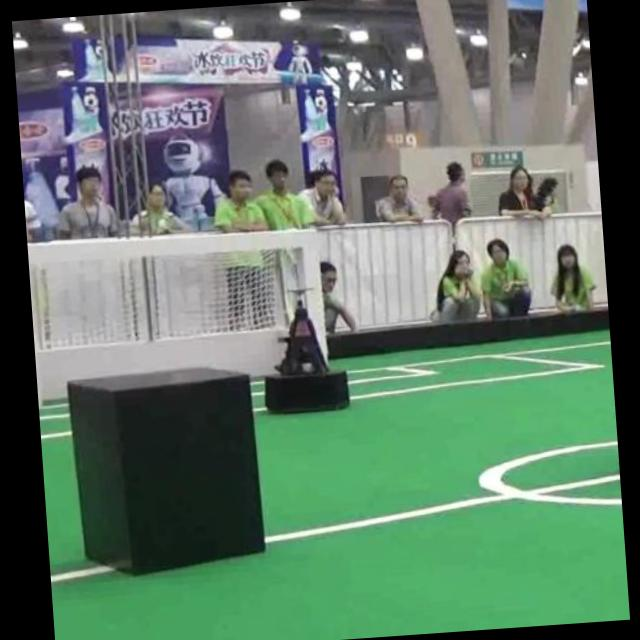robot: (263, 289, 348, 412)
